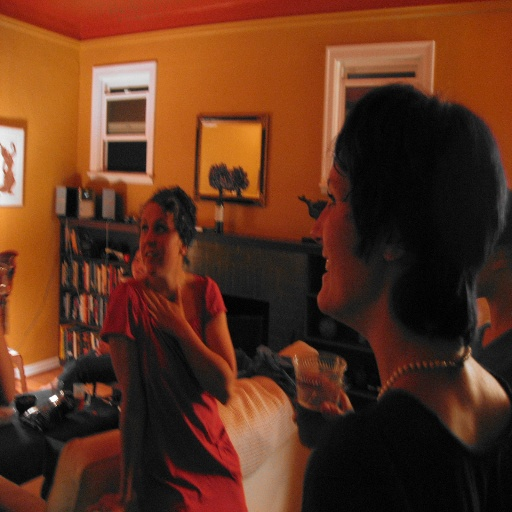hand: (139, 282, 188, 339), (311, 360, 352, 423), (98, 494, 126, 511)
